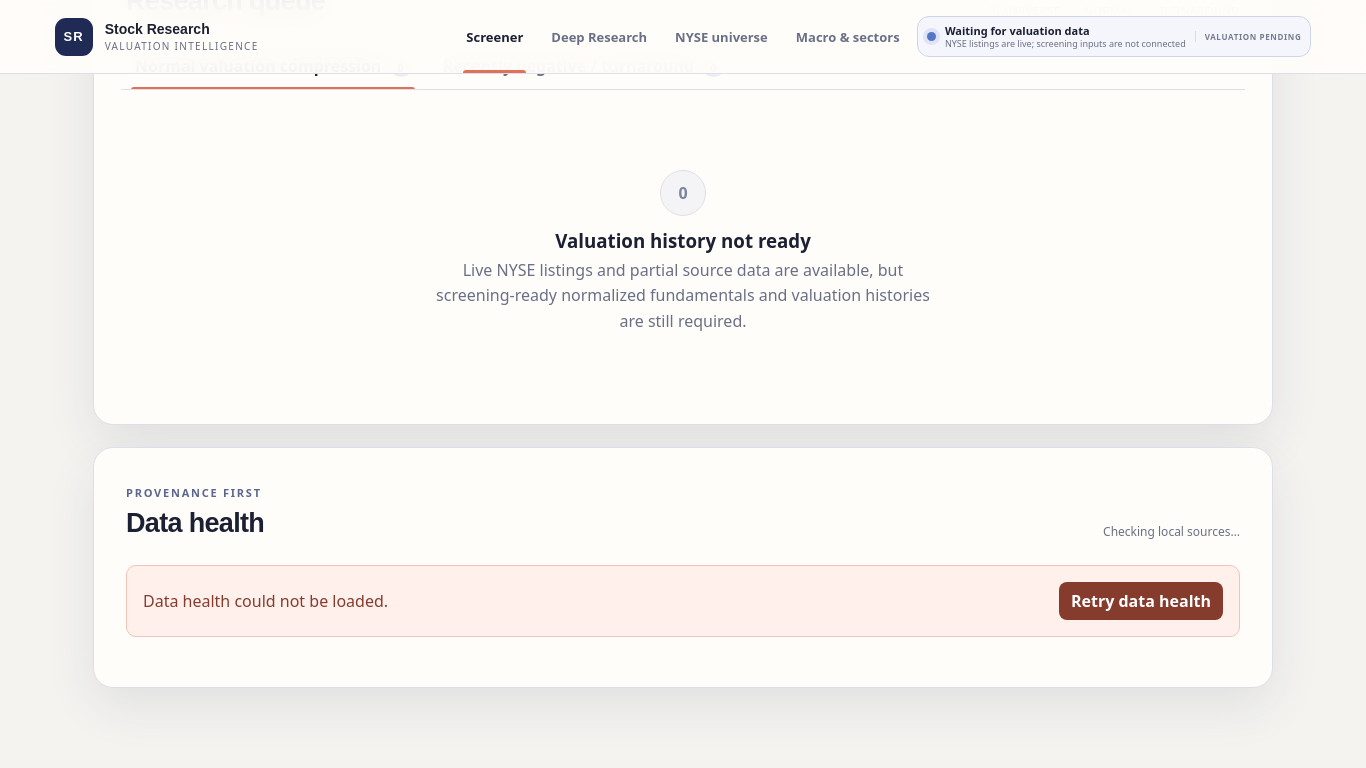
stock research dashboard › keeps a health failure visible and retries independently
(page scrolled)
Expected: the text "Data health could not be loaded." is shown, [143,590,388,612]
Click the button "Retry data health": {"x": 1141, "y": 601} [1059,582,1223,620]
(page scrolled)
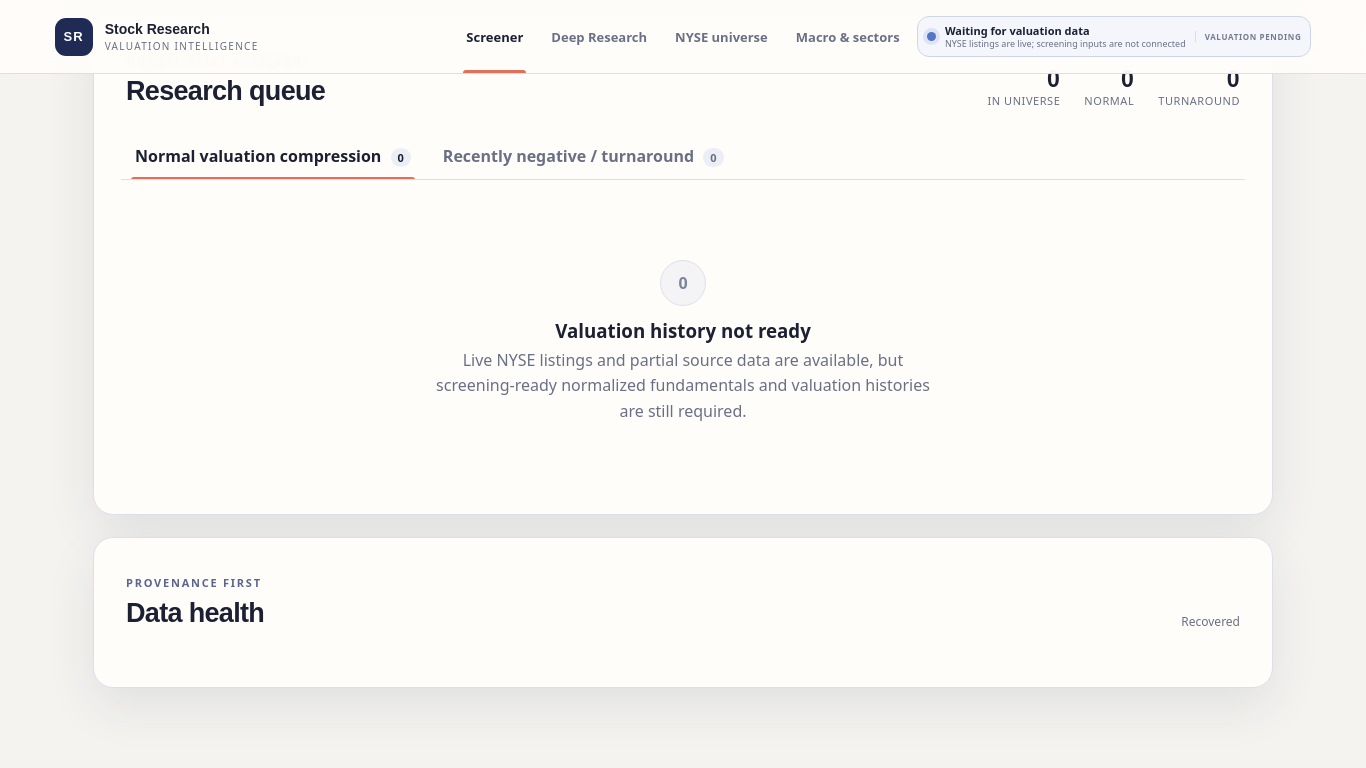
Now the text "Recovered" is shown, box [1181,613,1240,630]
